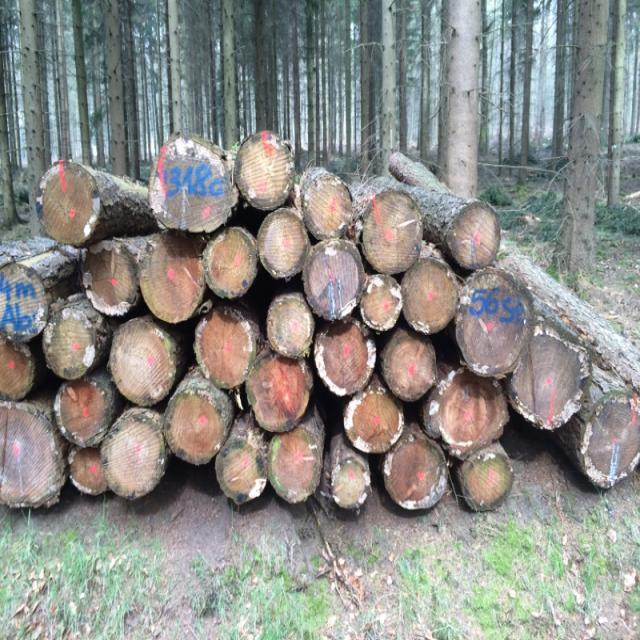wood-log: (505, 319, 591, 430), (147, 135, 238, 233), (455, 267, 532, 377), (422, 367, 509, 458), (0, 402, 65, 508), (109, 315, 178, 407), (139, 230, 206, 323), (578, 391, 640, 487), (101, 412, 167, 500), (35, 162, 100, 245), (248, 350, 312, 433), (302, 238, 365, 322), (362, 188, 422, 275), (194, 307, 256, 388), (313, 319, 377, 395), (234, 130, 294, 210), (384, 437, 448, 510), (166, 390, 228, 463), (84, 238, 140, 317), (402, 258, 458, 333), (267, 427, 321, 503), (54, 380, 114, 447), (344, 386, 404, 453), (0, 263, 49, 342), (381, 330, 436, 400), (204, 227, 258, 298), (446, 200, 500, 270), (42, 308, 95, 378), (259, 207, 309, 278), (462, 450, 514, 512), (304, 172, 352, 238), (216, 442, 266, 503), (268, 295, 315, 358), (359, 272, 402, 332), (0, 335, 35, 400), (331, 458, 371, 508), (67, 448, 108, 495)
